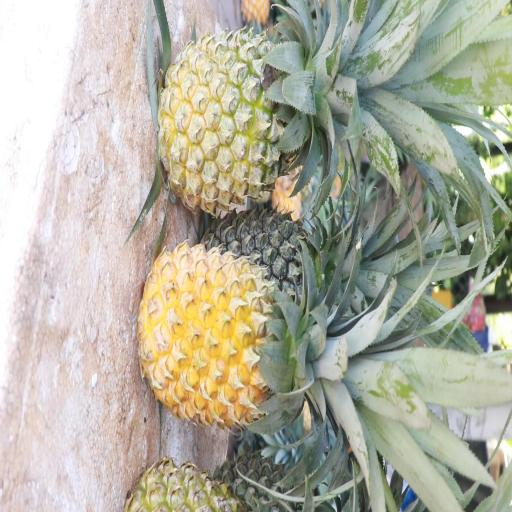------------------------------: (159, 27, 321, 209)
Pineapple - v8 v1: (143, 250, 324, 426)
